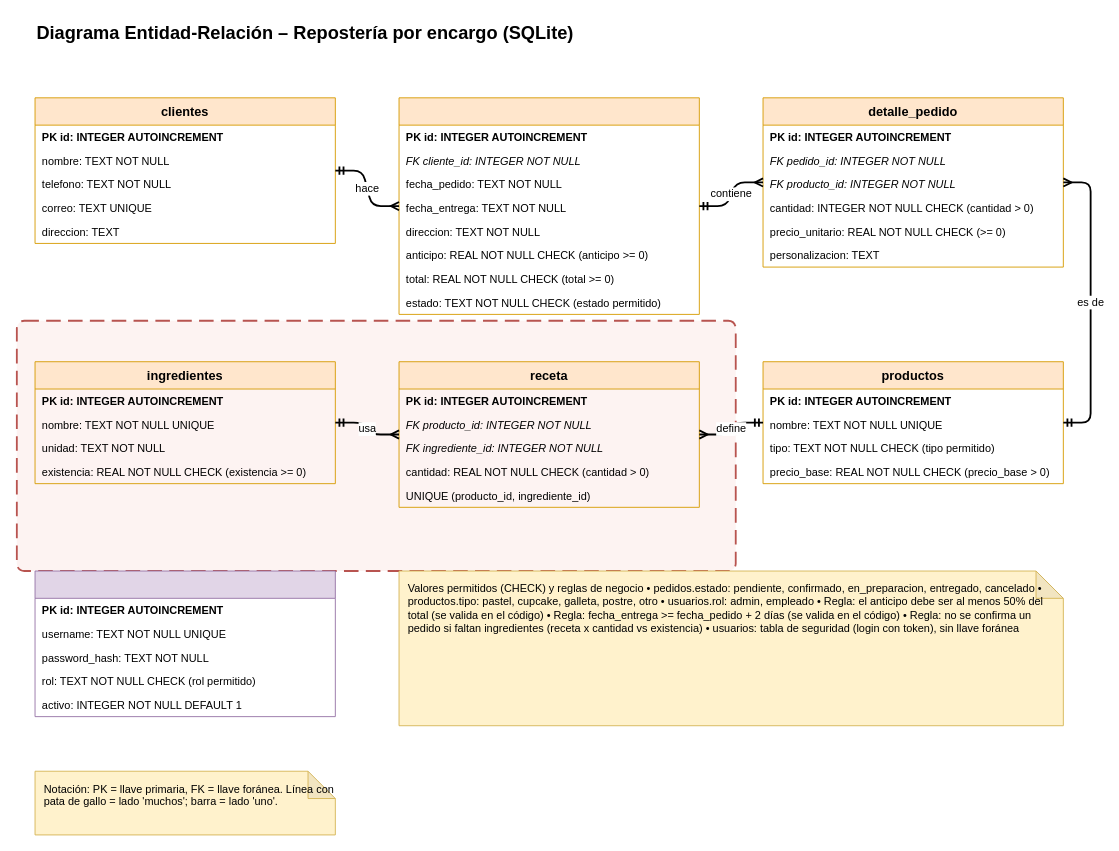
The diagram is 1119 pixels wide and 851 high, and some of its shapes have lost their labels. Each missing label, with the box of its shape:
INVENTARIO (ingredientes y recetas): (15, 319, 736, 571)
pedidos: (398, 97, 699, 314)
usuarios: (34, 570, 335, 717)
